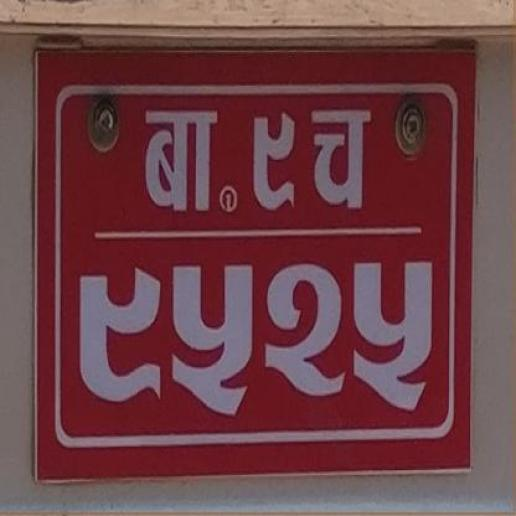2: (261, 252, 348, 407)
5: (351, 252, 437, 417), (169, 256, 256, 419)
9: (77, 259, 165, 413), (248, 102, 299, 217)
ba: (137, 102, 220, 220)
cha: (308, 101, 372, 215)
